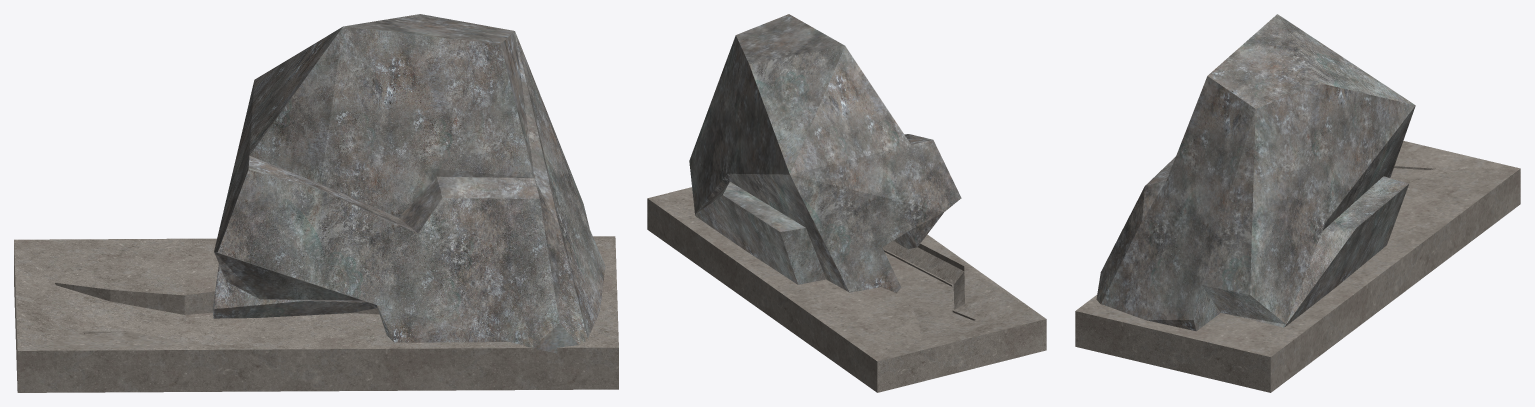
The model's file is G11_HYPEROBJECT.glb.
3 renders of one model, left to right at view 1: azimuth 30°, elevation 25°; view 2: azimuth 150°, elevation 25°; view 3: azimuth 270°, elevation 25°, orthographic. The views are drawn at different scales.
Visible parts, largest first — view 1: skin.028, Object_165.001; view 2: skin.028, Object_165.001; view 3: skin.028, Object_165.001.
Boxes of the visible parts, bbox=[...] form: skin.028: bbox=[212, 14, 605, 353]; Object_165.001: bbox=[14, 236, 618, 392]; skin.028: bbox=[689, 14, 961, 292]; Object_165.001: bbox=[647, 187, 1046, 392]; skin.028: bbox=[1096, 14, 1415, 331]; Object_165.001: bbox=[1075, 141, 1520, 392].
Bounding box in the file's own units: 137 × 72.95 × 110.
Materials: 2 (2 with a texture image).
